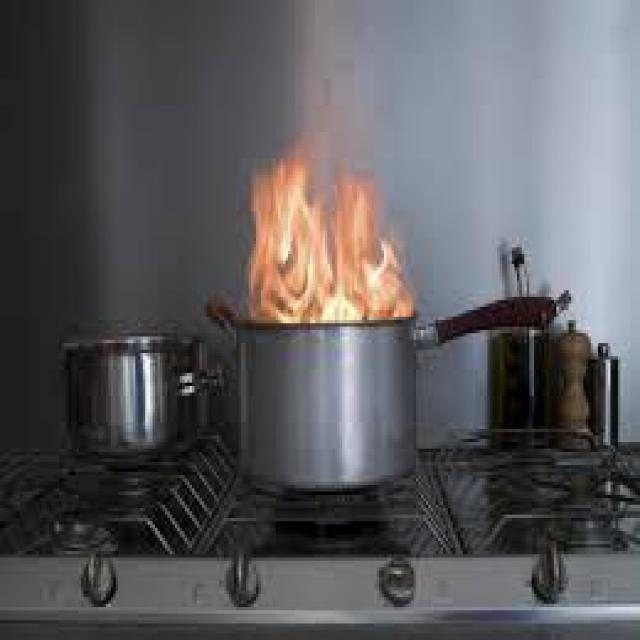fire: (238, 153, 430, 337)
